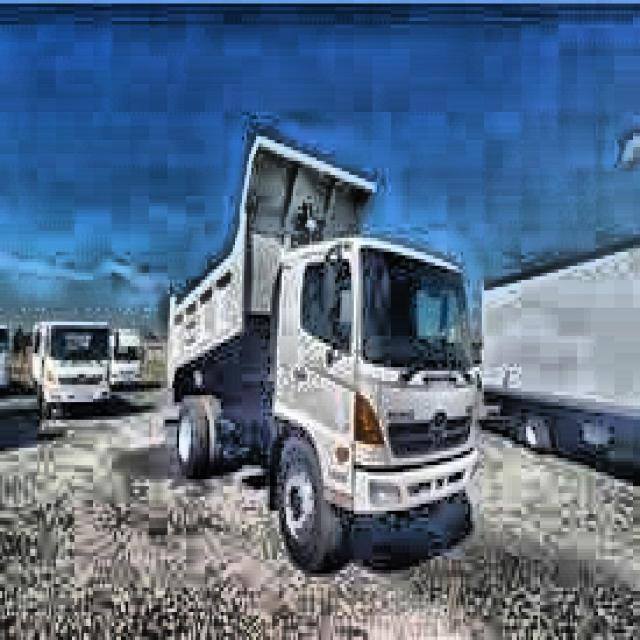dump_truck: (164, 203, 480, 580), (27, 316, 116, 418)
